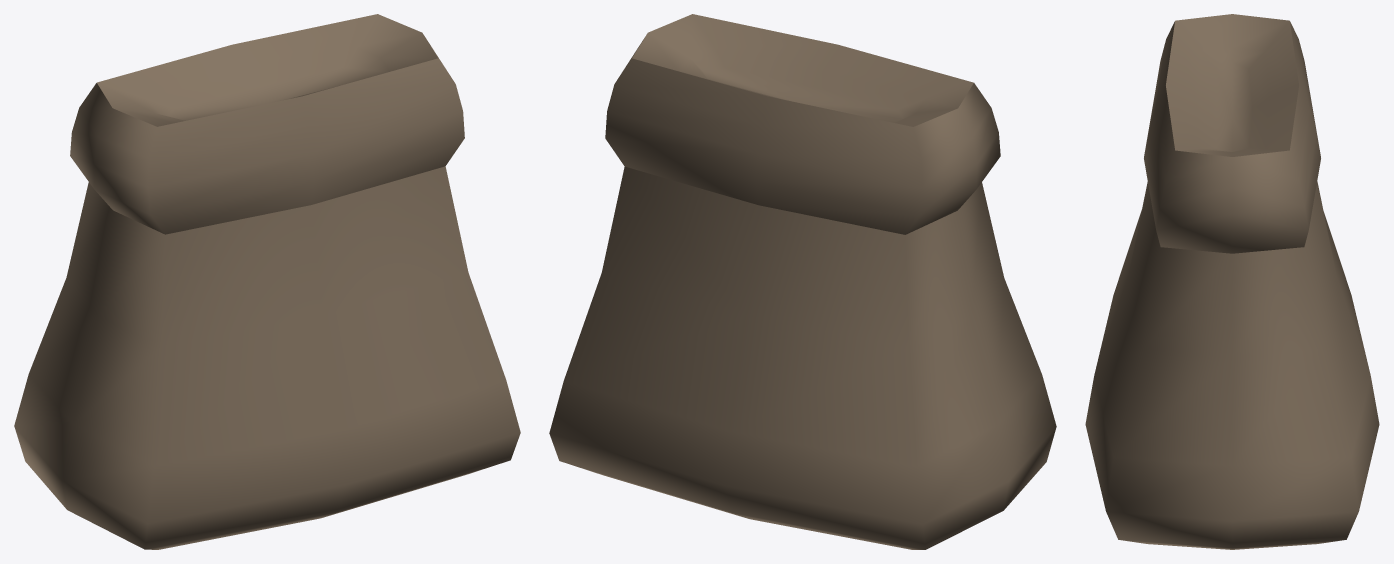
Rendered from PS_Bag01.fbx.
3 renders of one model, left to right at view 1: azimuth 30°, elevation 25°; view 2: azimuth 150°, elevation 25°; view 3: azimuth 270°, elevation 25°, orthographic. The views are drawn at different scales.
Parts seen in each view (by area): view 1: PS_Bag01; view 2: PS_Bag01; view 3: PS_Bag01.
Part boxes in pixels (box(x1,y1,x2,y2)): PS_Bag01: box(14, 14, 520, 549); PS_Bag01: box(549, 14, 1056, 549); PS_Bag01: box(1085, 14, 1379, 549).
Bounding box in the file's own units: 0.5264 × 0.5 × 0.3441.
